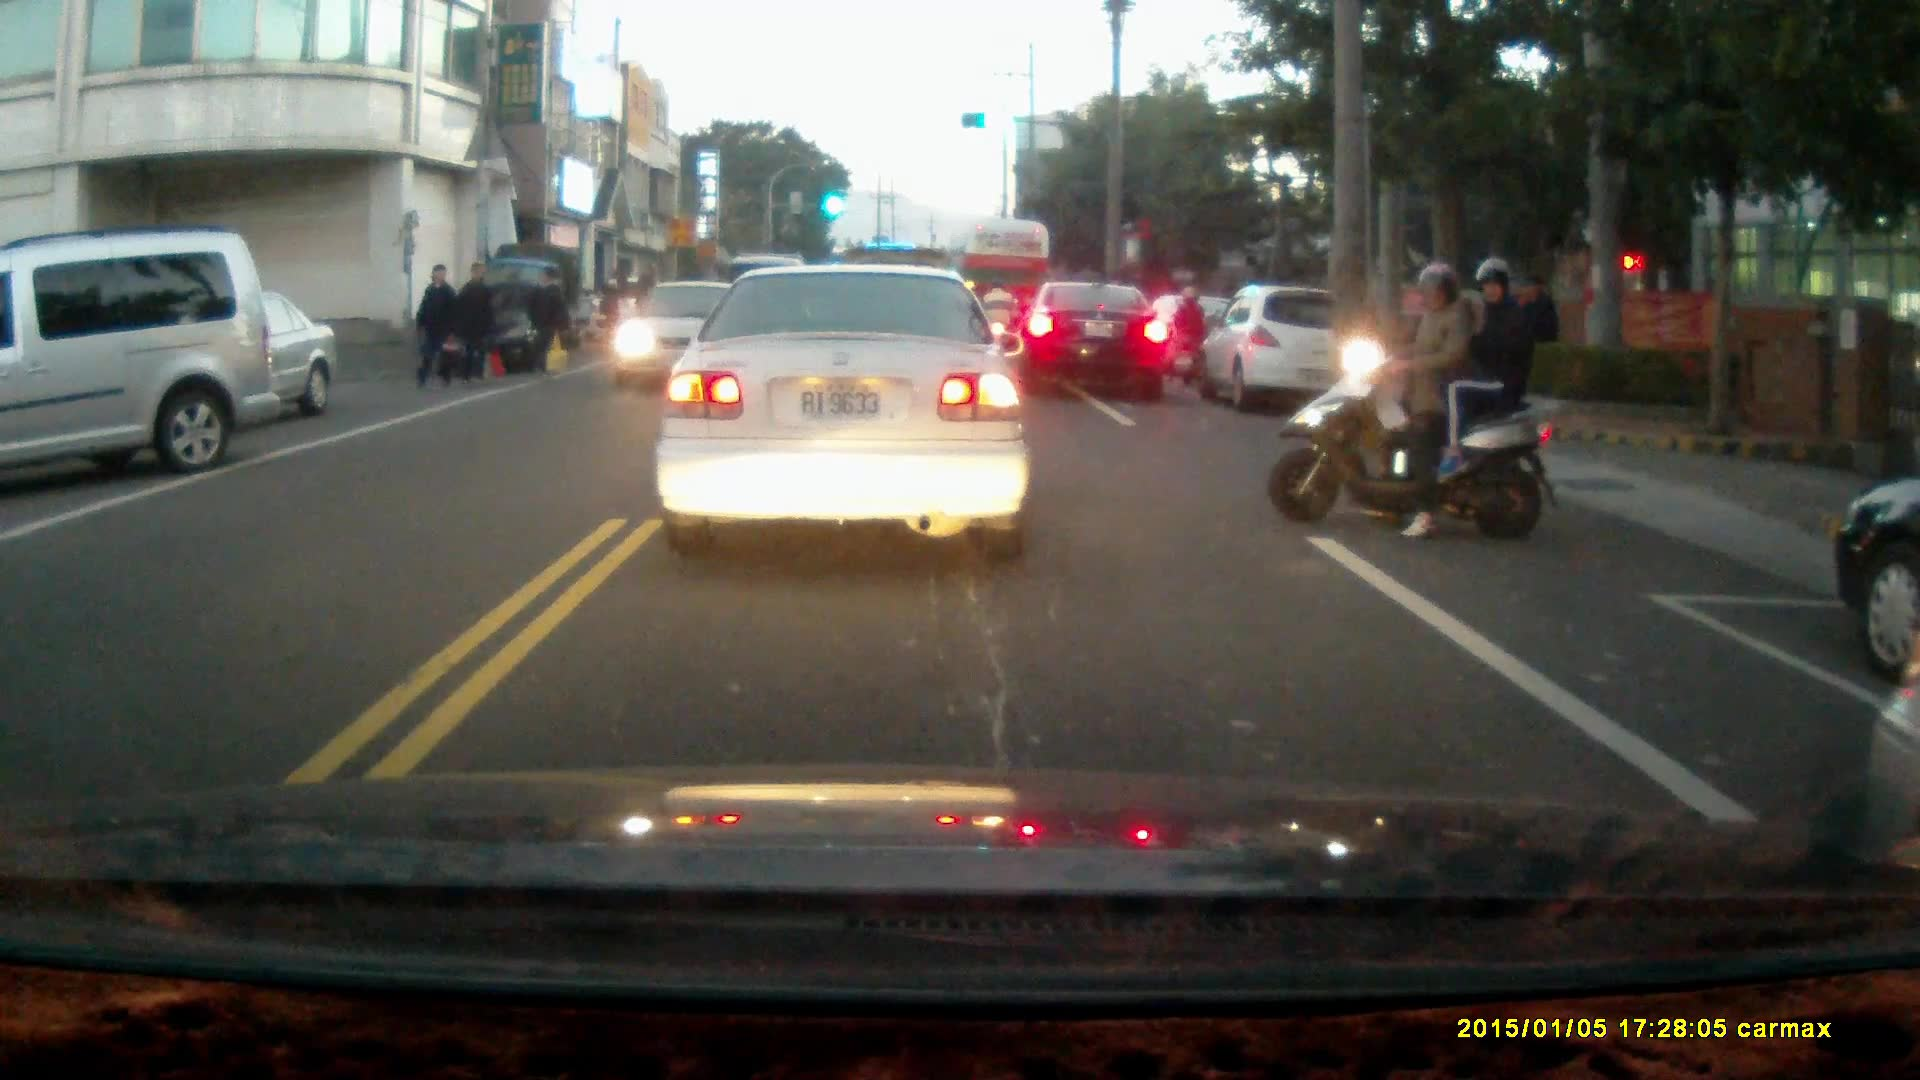pedestrian: (1511, 271, 1562, 392), (413, 263, 458, 391), (519, 263, 564, 374), (456, 260, 494, 384), (598, 261, 631, 351), (631, 262, 660, 346)
rider: (1267, 256, 1555, 543), (1169, 286, 1208, 390)
vehicle: (651, 263, 1036, 563), (1, 222, 264, 481), (71, 289, 340, 428), (1197, 284, 1378, 416), (1011, 282, 1173, 400), (614, 277, 756, 400), (949, 215, 1056, 355)
